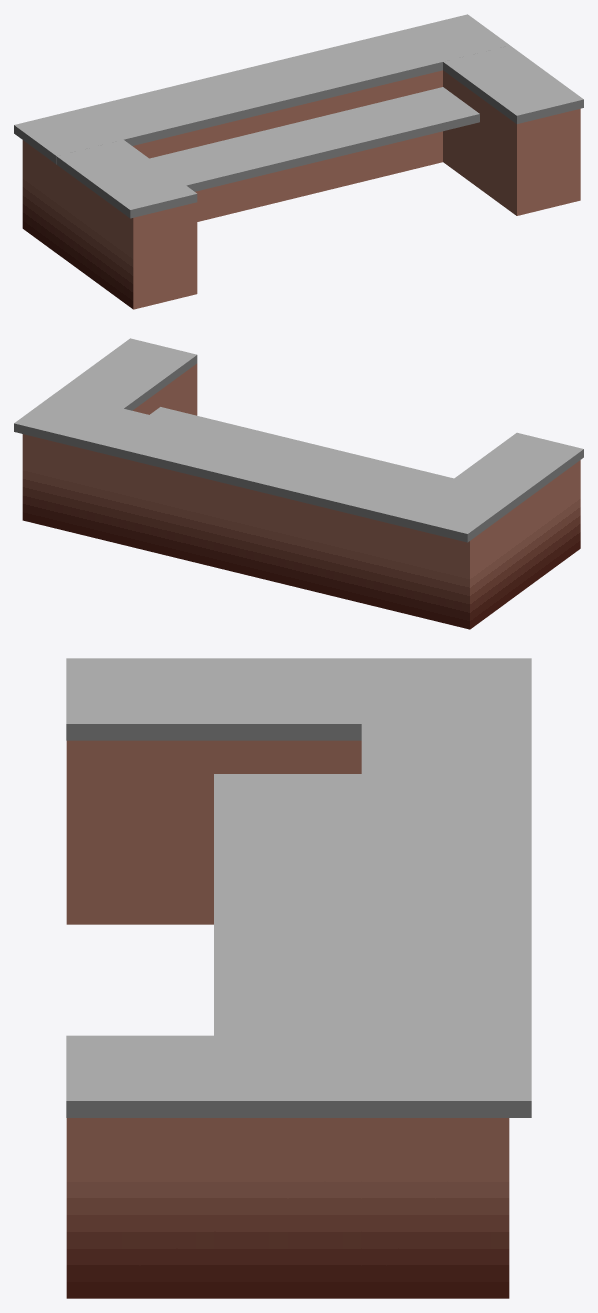
The model's file is Receptionist Desk.gltf.
The picture shows the model from 3 angles, top to bottom: view 1: azimuth 30°, elevation 25°; view 2: azimuth 150°, elevation 25°; view 3: azimuth 270°, elevation 25°; orthographic projection. The views are drawn at different scales.
Parts seen in each view (by area): view 1: cube (×7); view 2: cube (×7); view 3: cube (×7).
Boxes of the visible parts, bbox=[...] form: cube (×7): bbox=[14, 14, 583, 309]; cube (×7): bbox=[14, 338, 583, 629]; cube (×7): bbox=[66, 658, 531, 1298].
Size of the model in its own units: 0.8878 by 0.1877 by 0.3939.
Materials: 1 (1 with a texture image).
